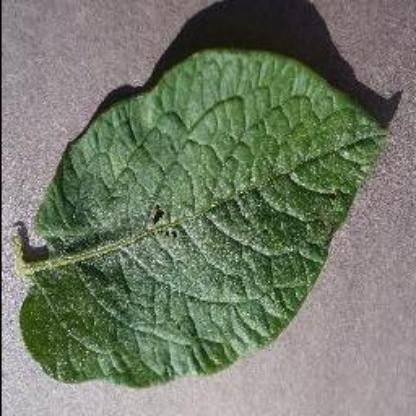Healthy-plant: (18, 34, 392, 396)
